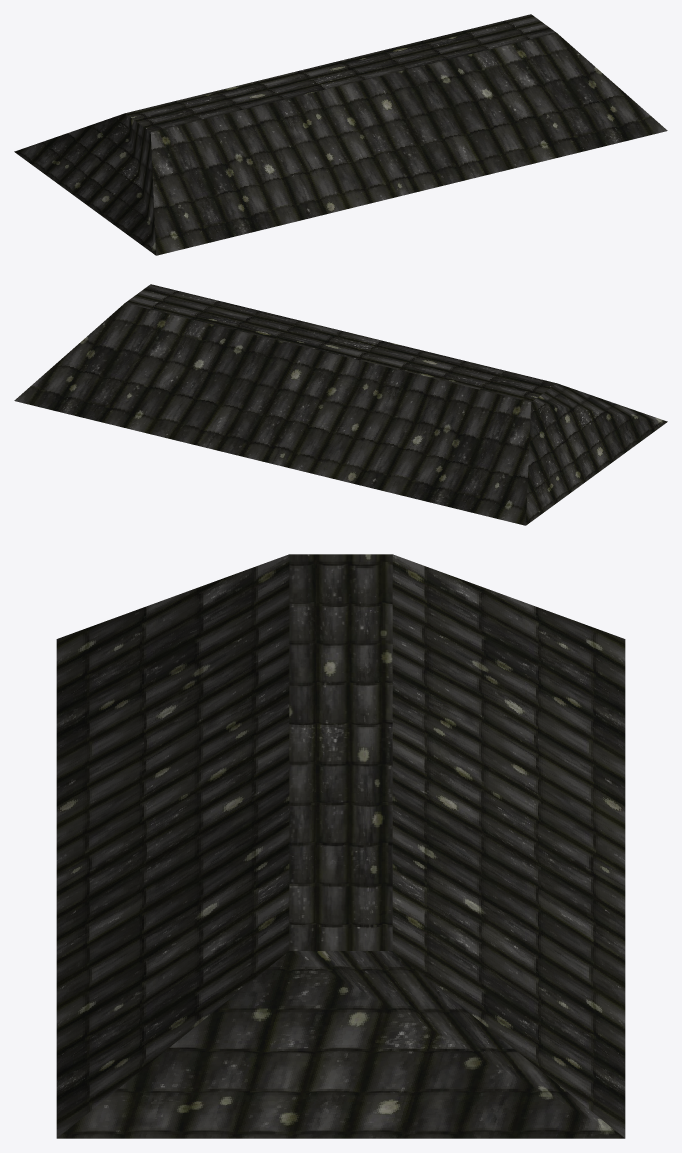
Rendered from roof-long.glb.
3 renders of one model, top to bottom at view 1: azimuth 30°, elevation 25°; view 2: azimuth 150°, elevation 25°; view 3: azimuth 270°, elevation 25°, orthographic. The views are drawn at different scales.
Visible parts, largest first — view 1: Roof_long; view 2: Roof_long; view 3: Roof_long.
Part boxes in pixels (x1,y1,x2,y2): Roof_long: [14, 14, 667, 255]; Roof_long: [14, 284, 667, 525]; Roof_long: [56, 554, 625, 1138].
Bounding box in the file's own units: 9.25 × 1.18 × 4.45.
Materials: 1 (1 with a texture image).
